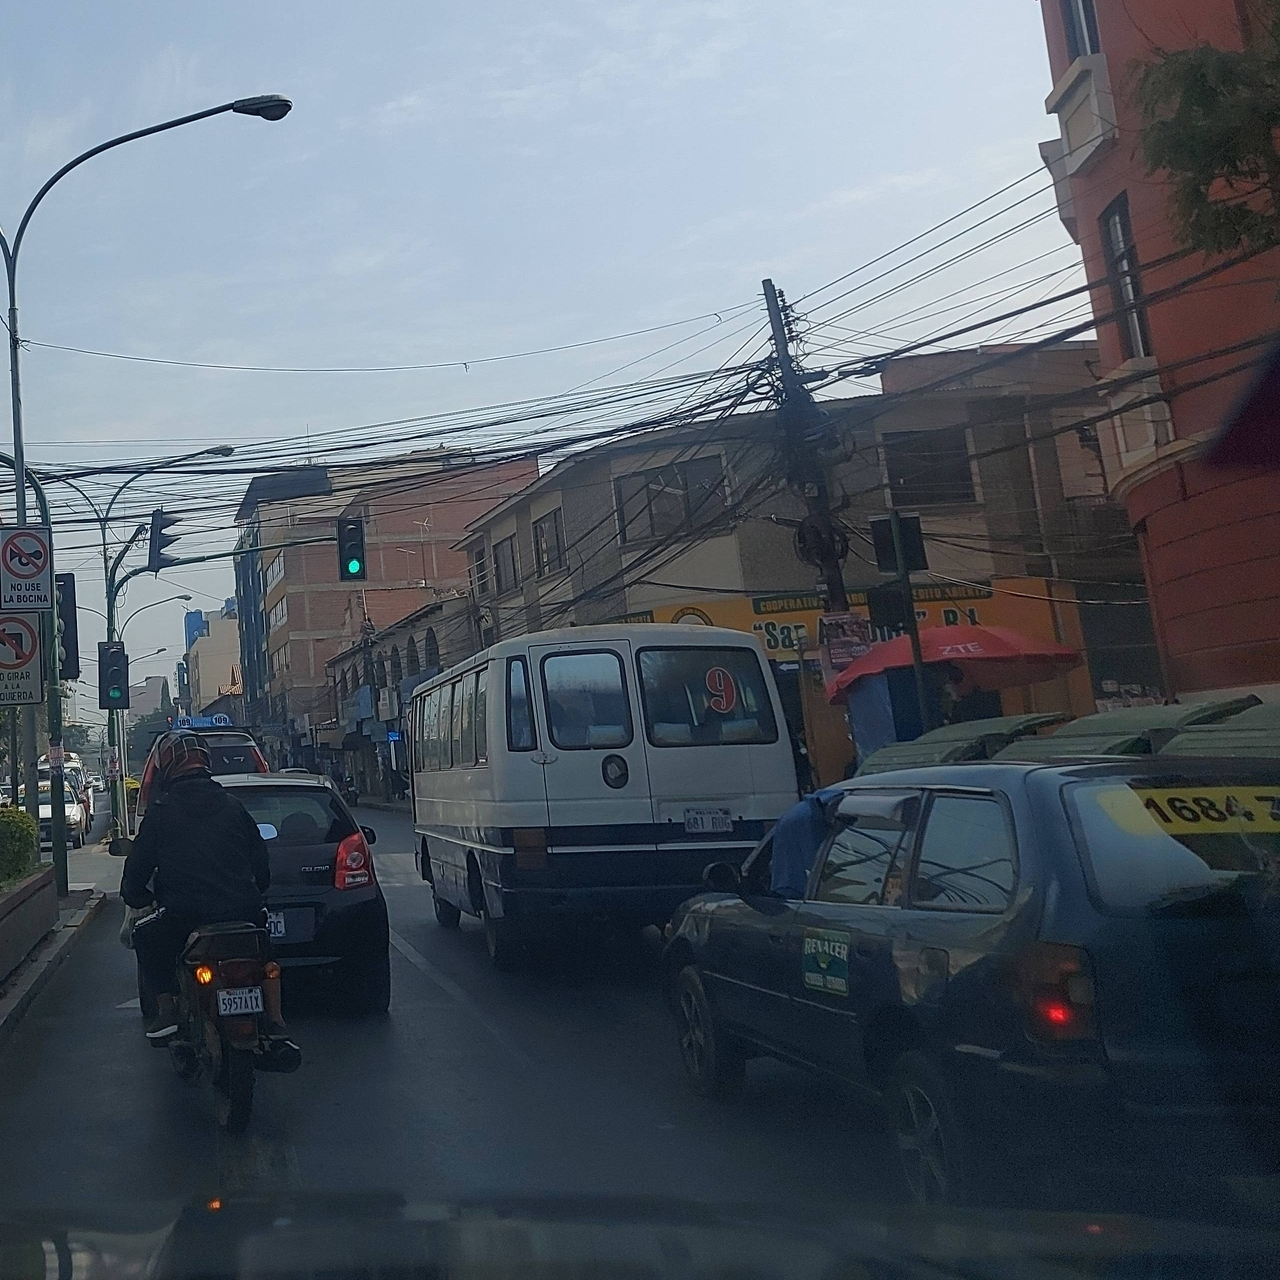prohibido-girar-izquierda: (0, 610, 48, 708)
